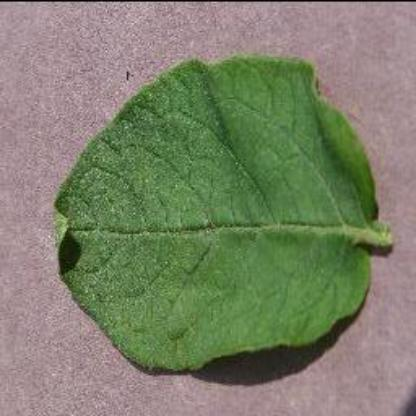Healthy-plant: (52, 48, 388, 379)
